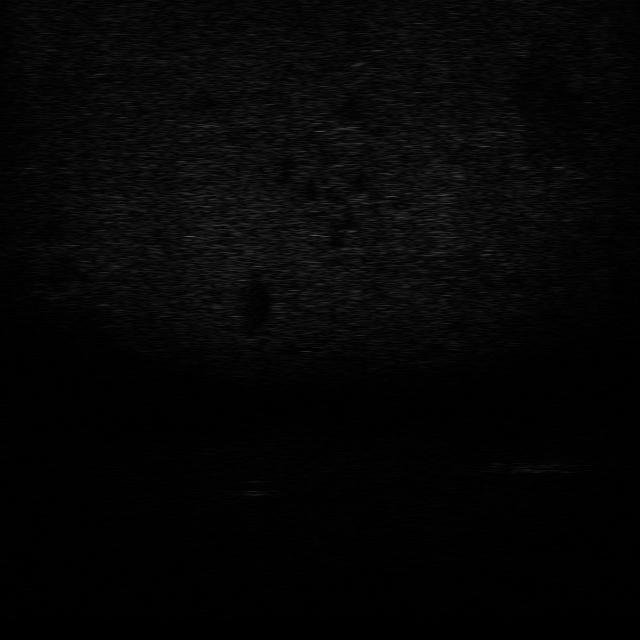ball: (230, 476, 278, 498)
human body: (495, 452, 590, 476)
